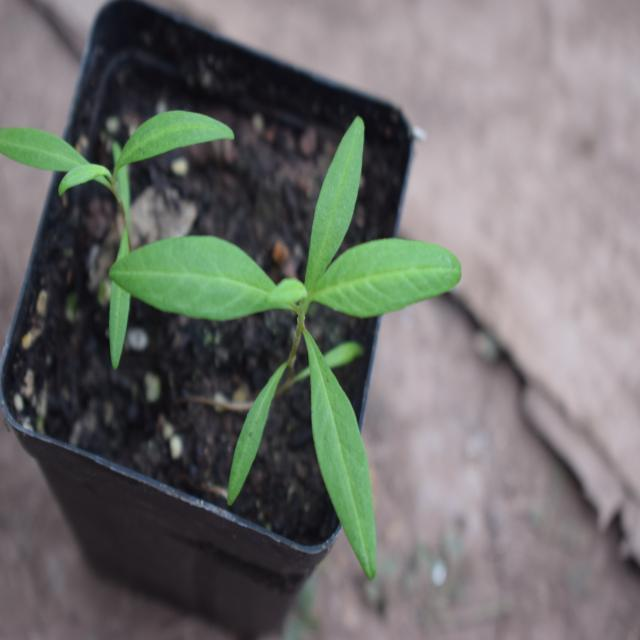white_smart_weed: (128, 139, 456, 580)
